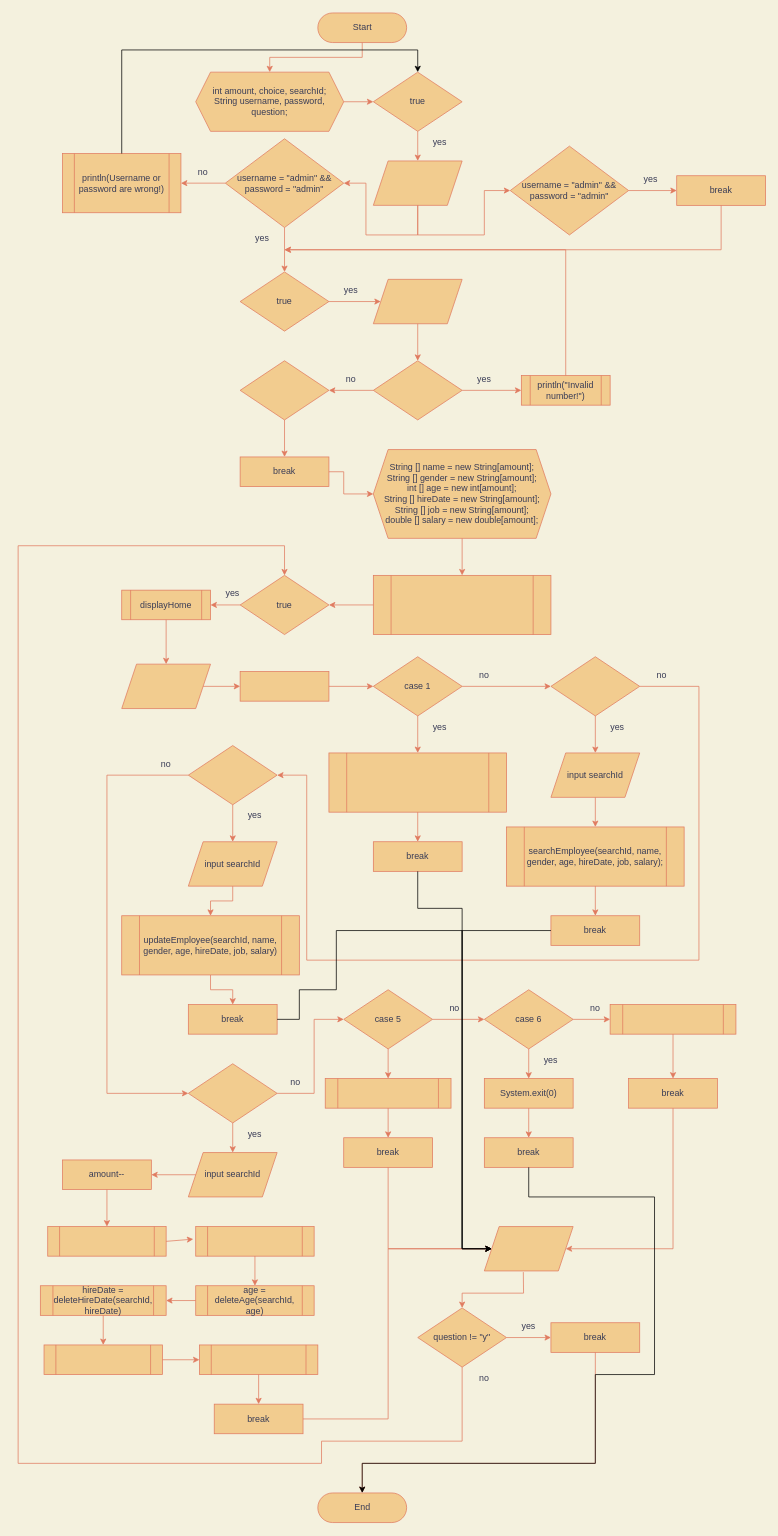
Some shapes in this 778 by 1536 pixel diagram are drawn without their labels. The box of each missing label's shape, as (x1, y1, x2, y2) in pixels:
amount < 1: (373, 360, 462, 420)
amount >= 1: (239, 360, 329, 420)
case 2: (550, 656, 640, 716)
case 3: (188, 745, 277, 805)
case 4: (188, 1063, 277, 1123)
createEmployee(amount, name, gender, age, hireDate, job, salary): (373, 575, 551, 635)
gender = deleteGender(searchId, gender): (195, 1226, 314, 1256)
input amount: (373, 279, 462, 324)
input choice: (121, 663, 211, 709)
input question: (484, 1226, 573, 1271)
input username, password: (373, 160, 462, 205)
job = deleteJob(searchId, job);: (43, 1344, 162, 1375)
name = deleteName(searchId, name): (47, 1226, 166, 1256)
println("Invalid input number!"): (609, 1004, 736, 1034)
reportEmployee(amount, name, gender, age, hireDate, job, salary): (324, 1078, 451, 1108)
salary = deleteSalary(searchId, salary): (199, 1344, 318, 1375)
switch(choice): (239, 671, 329, 701)
viewEmployees(amount, name, gender, age, hireDate, job, salary);: (328, 752, 507, 812)
